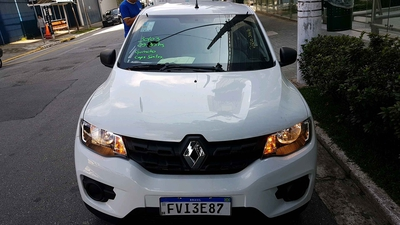Frontal Veiculo: (73, 7, 317, 222)
